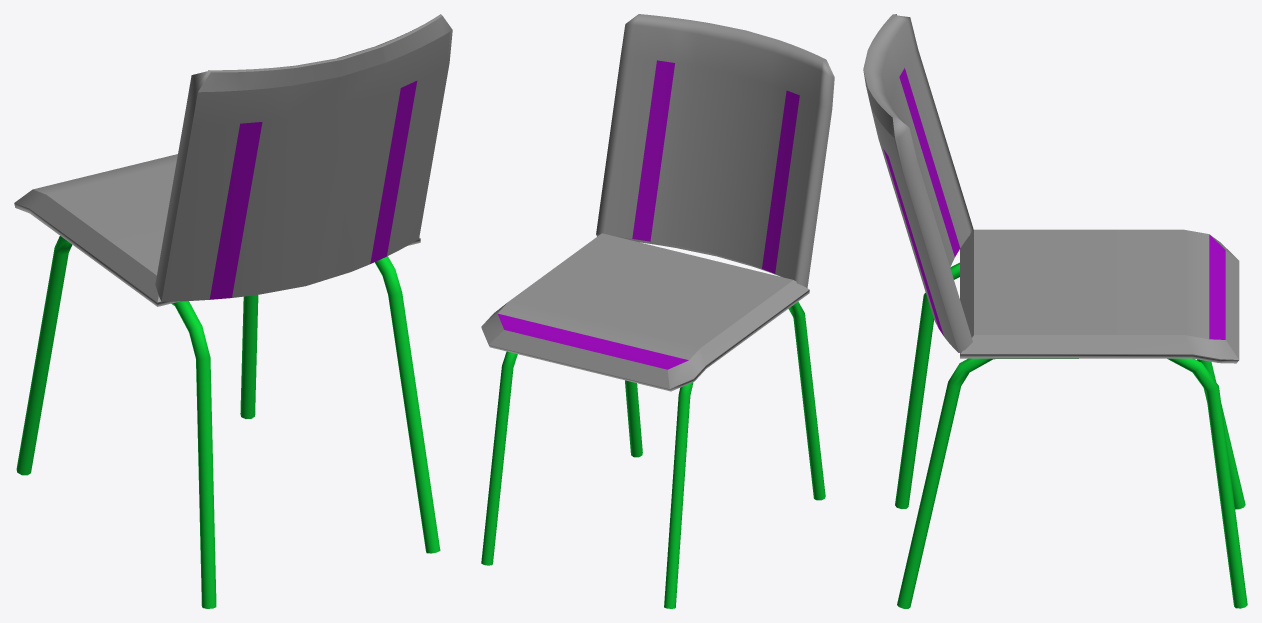
File: SM_Chair.FBX
3 views of the same model, side by side, from view 1: azimuth 30°, elevation 25°; view 2: azimuth 150°, elevation 25°; view 3: azimuth 270°, elevation 25° (orthographic). The views are drawn at different scales.
Parts seen in each view (by area): view 1: Chairs; view 2: Chairs; view 3: Chairs.
Part boxes in pixels (x1=…): Chairs: x1=14, y1=14, x2=452, y2=608; Chairs: x1=481, y1=14, x2=834, y2=608; Chairs: x1=863, y1=14, x2=1247, y2=608.
Size of the model in its own units: 0.7273 by 1.43 by 1.01.
